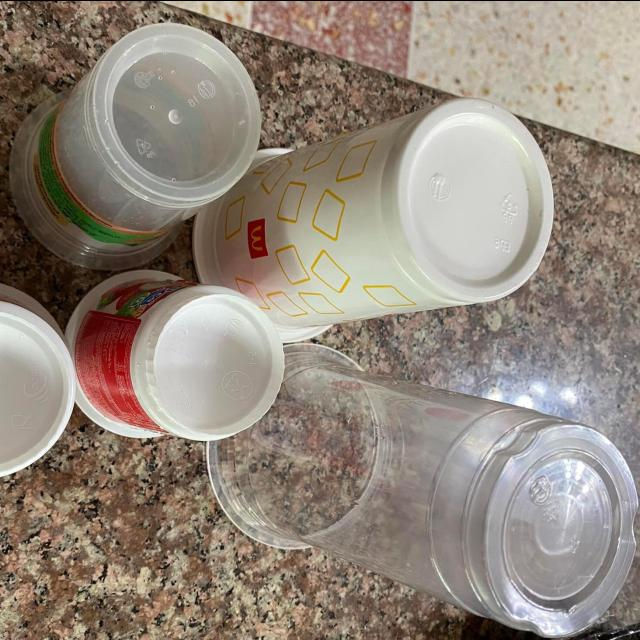plastik: (207, 345, 637, 635), (193, 97, 553, 341), (10, 22, 260, 268), (66, 270, 284, 439), (0, 283, 75, 476)
